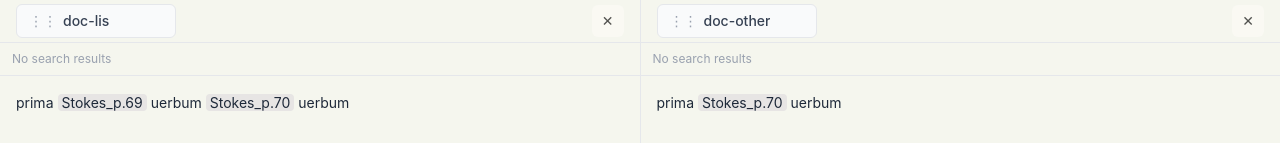
Test: Page Jump (#198) › notices (#199) › with no other Version of the Work open, the clicked column says where to go
Step 1. Click the 1st button "Stokes_p.70" → (250, 102), box [206,94,294,111]
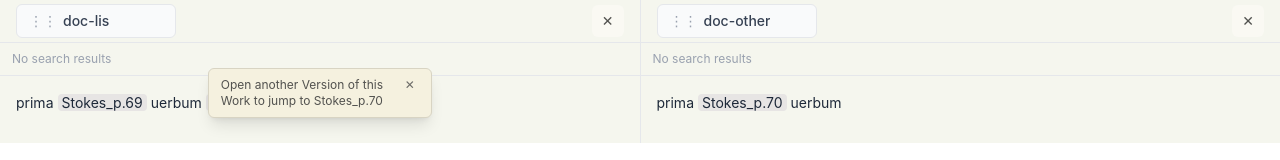
Expected: the message shows "Open another Version of this Work to jump to Stokes_p.70", [221,77,383,108]
